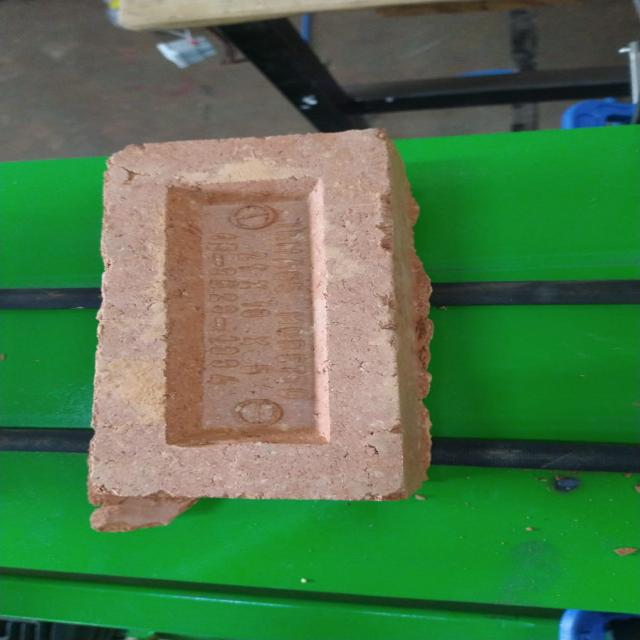bricks_ruin: (84, 126, 438, 533)
